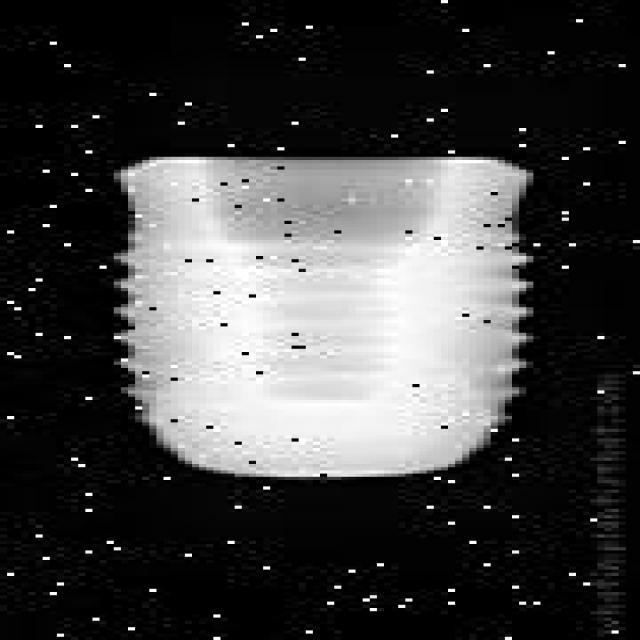Titan Implant Implant: (112, 150, 551, 489)
